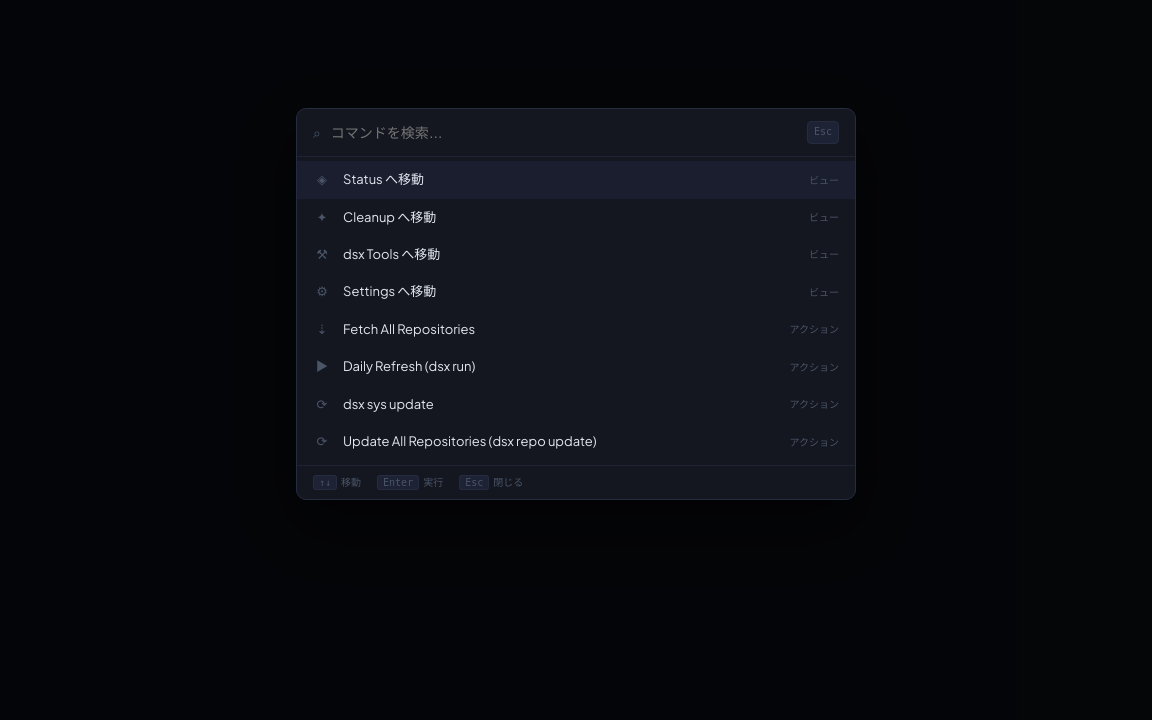
Test case: CommandPalette — フィルタリング › 一致なしのとき「一致するコマンドが見つかりません」を表示する
The width and height of the screenshot is (1152, 720).
Type "xyznotexist" into the dropdown at x=569, y=132, box [331, 124, 807, 140]
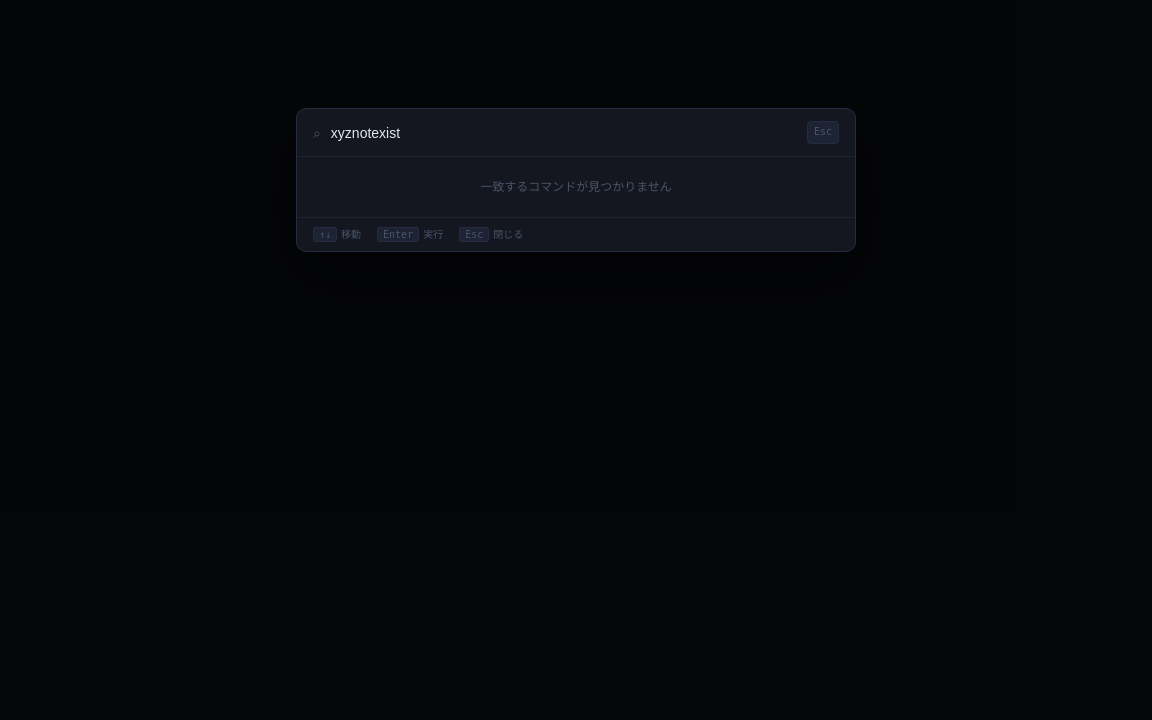
Check: the list item "一致するコマンドが見つかりません" is shown, box [480, 179, 672, 194]
